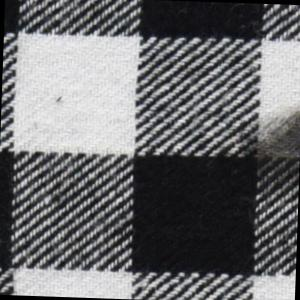Stain: (240, 108, 300, 195)
